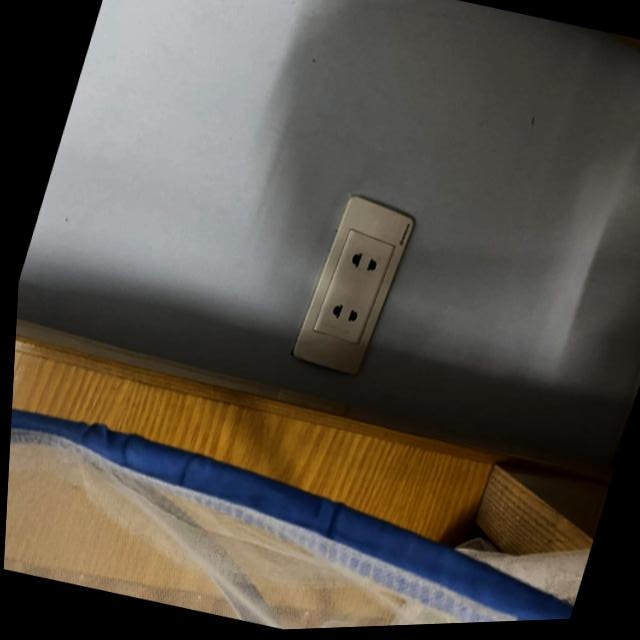outlet: (287, 190, 421, 383)
